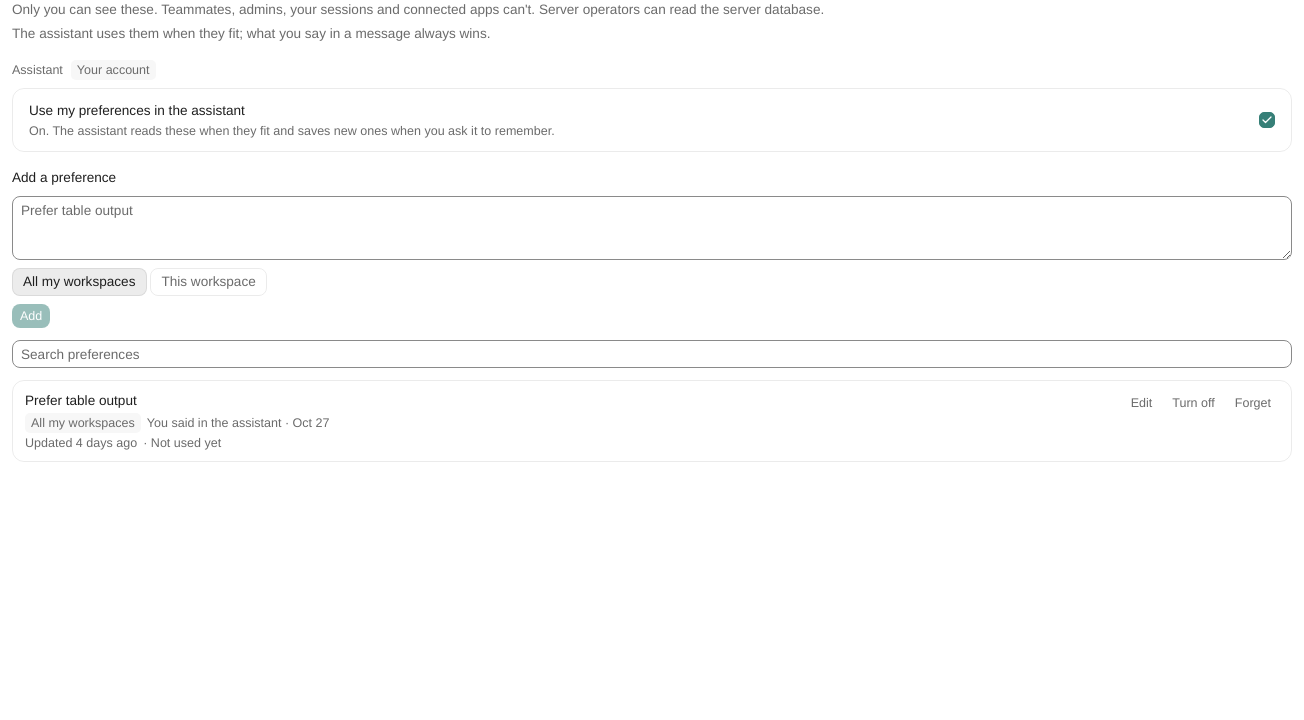
Test case: memory in settings › edits a preference in place and shows a refusal verbatim
Step 1. Click the 2nd button named "Edit" → (1142, 403), box [1123,391,1160,415]
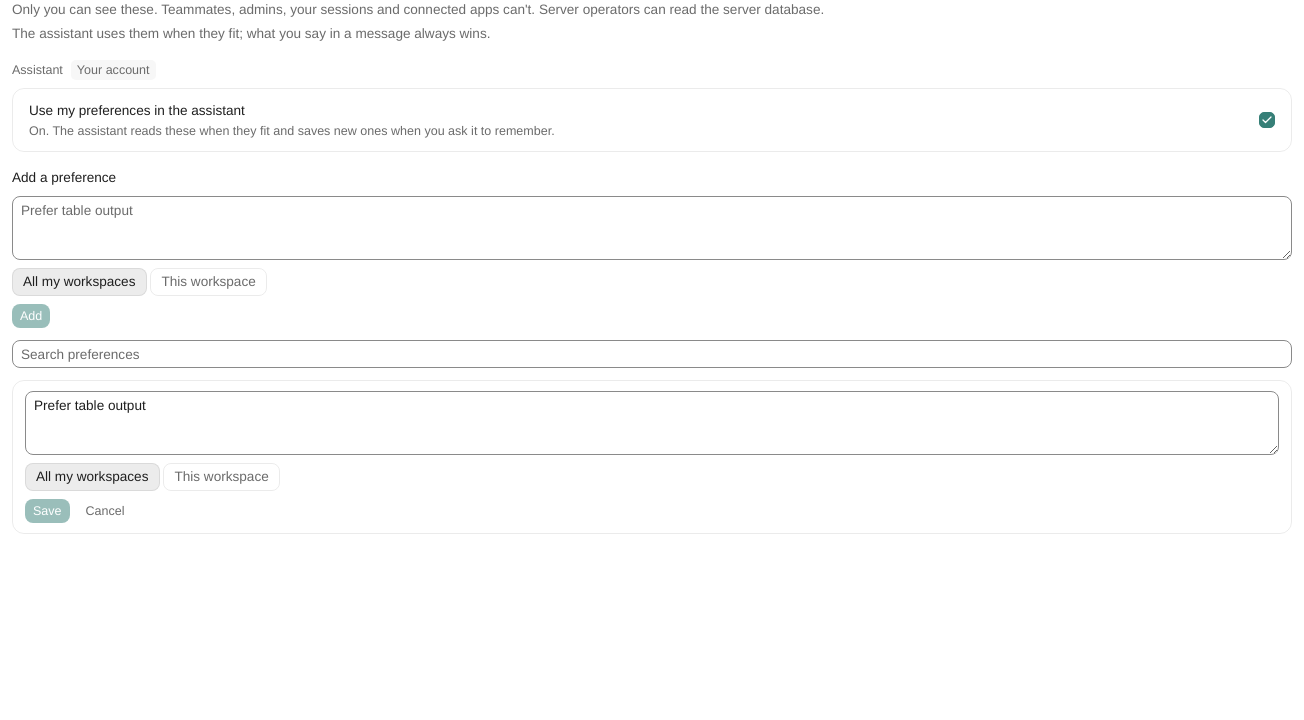
Step 2. Replace the text in the text box named "Preference text" with "Prefer JSON output" → (652, 423), box [25,391,1279,455]
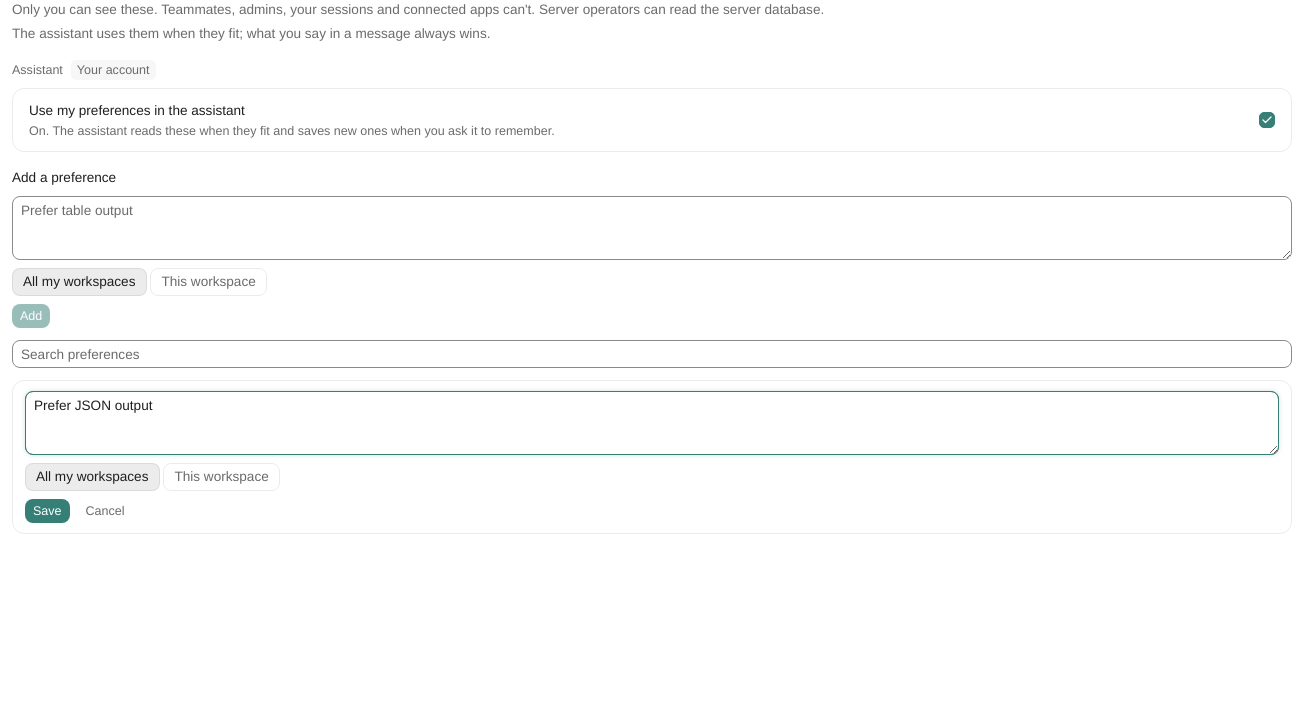
Step 3. Click the 2nd button named "Save" → (47, 511), box [25,499,70,523]
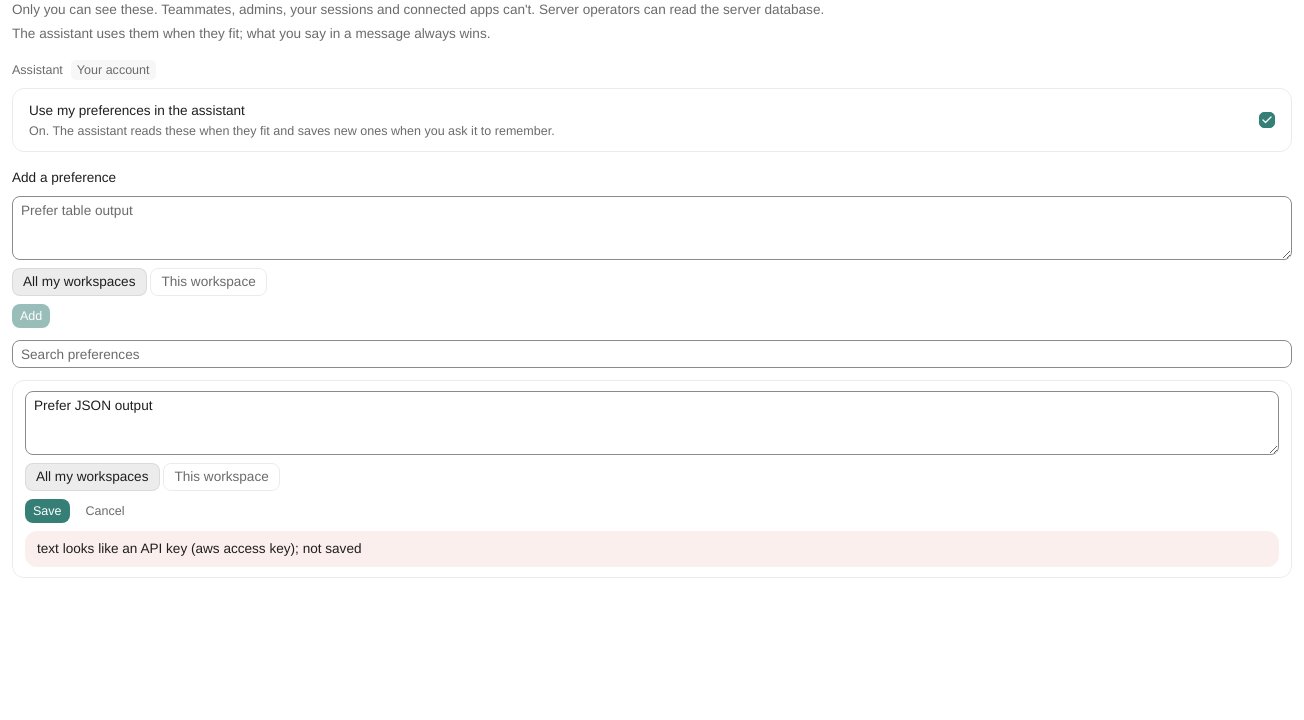
Step 4. Click the 2nd button named "Save" → (47, 511), box [25,499,70,523]
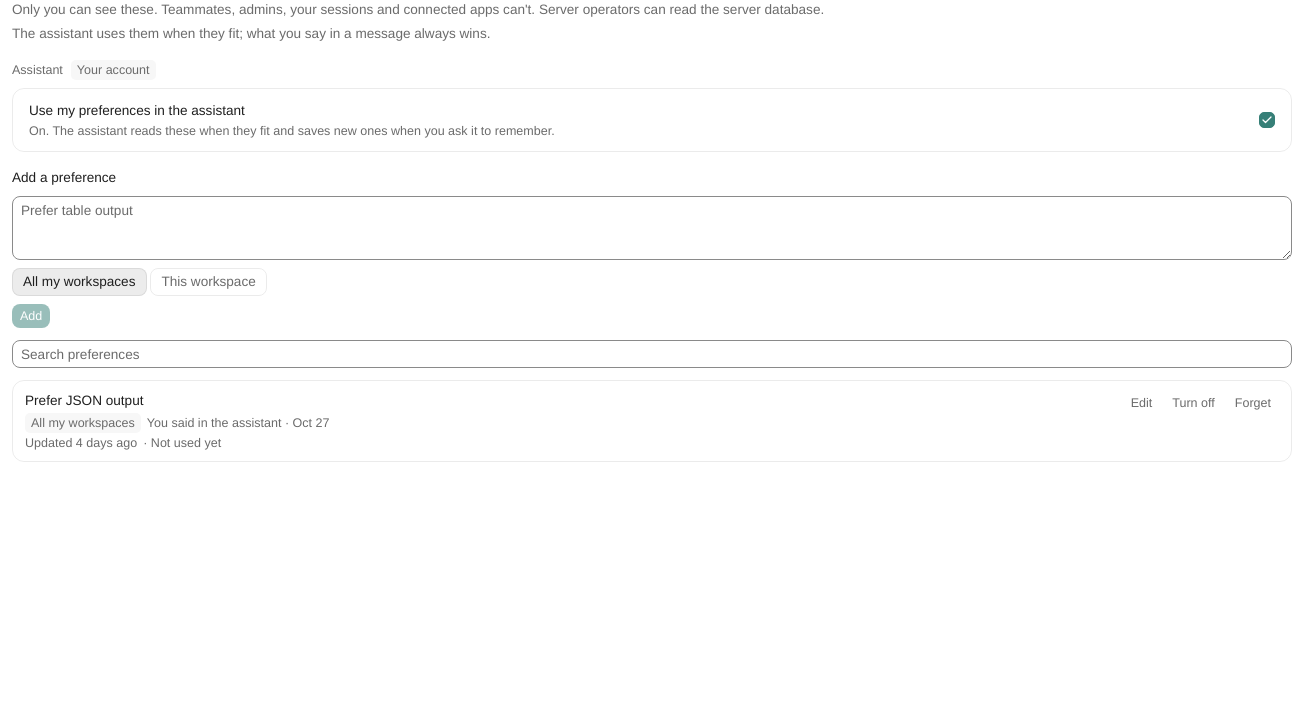
Expected: the 5th text "Prefer JSON output" is shown, [25,392,144,409]
